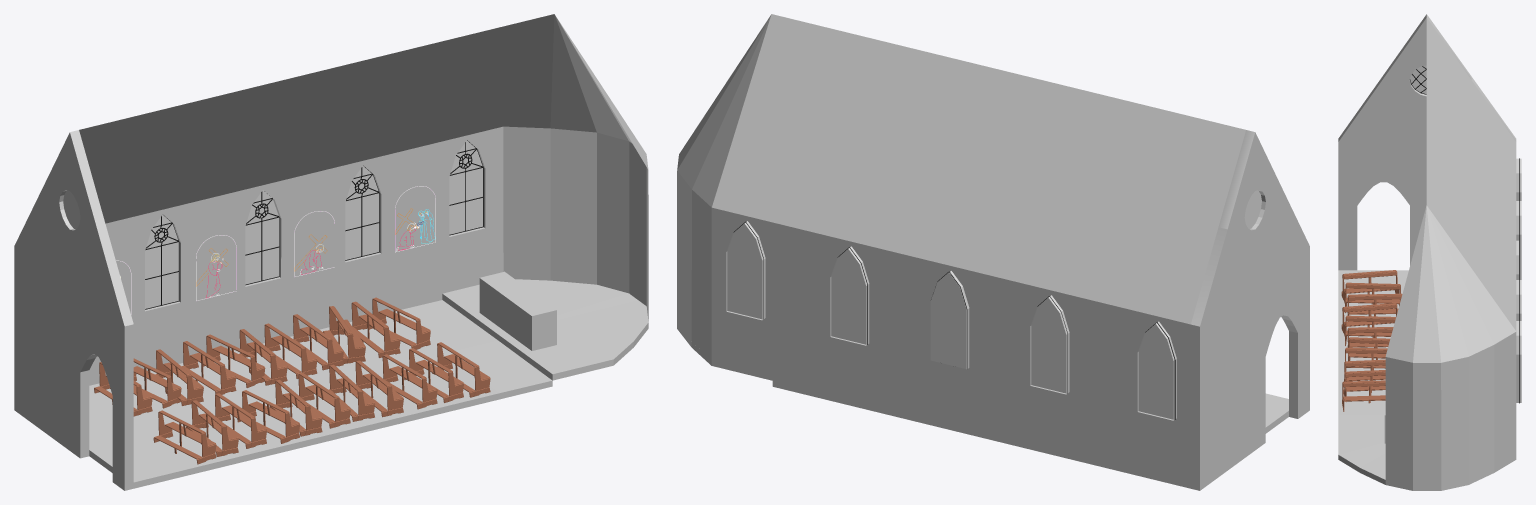
The model's file is IGLESIA MUESTRA.fbx.
The picture shows the model from 3 angles, left to right: view 1: azimuth 30°, elevation 25°; view 2: azimuth 150°, elevation 25°; view 3: azimuth 270°, elevation 25°; orthographic projection. The views are drawn at different scales.
Parts seen in each view (by area): view 1: IGLESIA, ATRIL, Plano.008, Plano.012, VENTANA B, Plano.011, Cubo.063, Cubo.059, Cubo.048, Cubo.047, Cubo.054, Cubo.017 (+16 smaller); view 2: IGLESIA, Plano.011, VENTANA A, Plano.008, Plano.012, VENTANA B; view 3: IGLESIA, Cubo.063, Cubo.058, Cubo.061, Cubo.014, Cubo.017, Cubo.056, Cubo.046, Cubo.054, Cubo.048, Cubo.052, Cubo.050 (+1 smaller).
Part boxes in pixels (x1,y1,x2,y2): IGLESIA: [14, 14, 648, 490]; ATRIL: [479, 271, 556, 350]; Plano.008: [449, 140, 483, 235]; Plano.012: [345, 165, 379, 260]; VENTANA B: [145, 214, 179, 309]; Plano.011: [245, 190, 279, 285]; Cubo.063: [153, 410, 216, 464]; Cubo.059: [182, 341, 236, 394]; Cubo.048: [382, 354, 437, 409]; Cubo.047: [351, 301, 400, 357]; Cubo.054: [298, 372, 350, 428]; Cubo.017: [215, 393, 266, 448]; IGLESIA: [677, 14, 1309, 490]; Plano.011: [930, 271, 967, 369]; VENTANA A: [1138, 322, 1175, 419]; Plano.008: [727, 221, 763, 319]; Plano.012: [831, 247, 867, 344]; VENTANA B: [1031, 296, 1067, 393]; IGLESIA: [1338, 14, 1521, 490]; Cubo.063: [1341, 270, 1399, 303]; Cubo.058: [1341, 303, 1397, 336]; Cubo.061: [1345, 282, 1400, 312]; Cubo.014: [1342, 380, 1385, 411]; Cubo.017: [1347, 293, 1402, 321]; Cubo.056: [1345, 315, 1396, 345]; Cubo.046: [1343, 370, 1385, 401]; Cubo.054: [1347, 327, 1393, 354]; Cubo.048: [1344, 359, 1385, 381]; Cubo.052: [1348, 337, 1390, 361]; Cubo.050: [1345, 347, 1387, 371].
Size of the model in its own units: 20.4 by 10.93 by 7.06.
